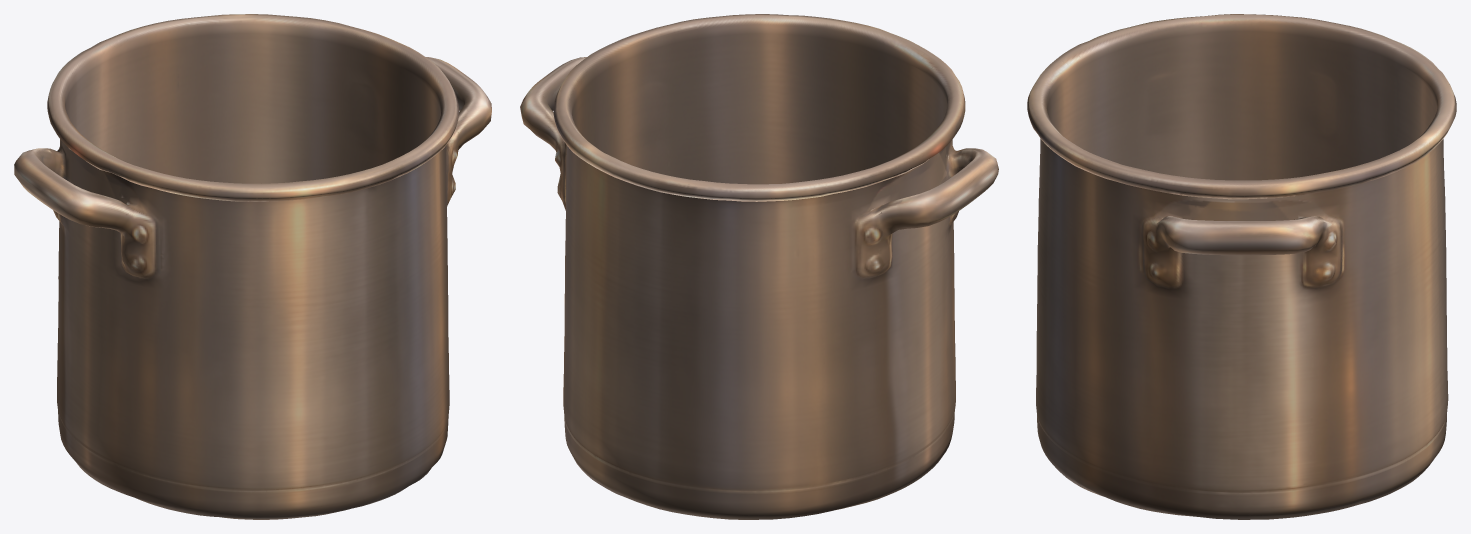
File: SoupV09AI.fbx
3 views of the same model, side by side, from view 1: azimuth 30°, elevation 25°; view 2: azimuth 150°, elevation 25°; view 3: azimuth 270°, elevation 25° (orthographic).
Parts seen in each view (by area): view 1: Retopo_Mesh.001; view 2: Retopo_Mesh.001; view 3: Retopo_Mesh.001.
Boxes of the visible parts, box(x1,y1,x2,y2) form: Retopo_Mesh.001: box(14, 14, 491, 519); Retopo_Mesh.001: box(520, 14, 998, 519); Retopo_Mesh.001: box(1027, 14, 1456, 519).
Bounding box in the file's own units: 1 × 0.7559 × 0.8537.
